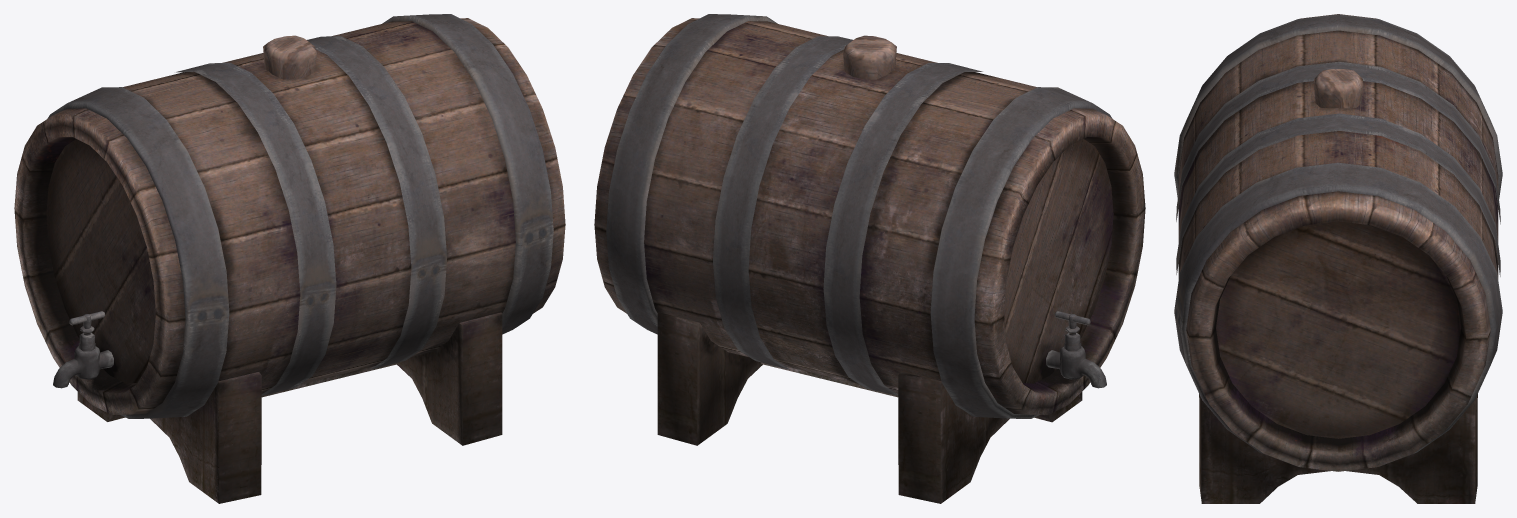
Rendered from wine_barrel.glb.
3 renders of one model, left to right at view 1: azimuth 30°, elevation 25°; view 2: azimuth 150°, elevation 25°; view 3: azimuth 270°, elevation 25°, orthographic. The views are drawn at different scales.
Parts seen in each view (by area): view 1: wine_barrel; view 2: wine_barrel; view 3: wine_barrel.
Boxes of the visible parts, bbox=[...] form: wine_barrel: bbox=[14, 14, 565, 503]; wine_barrel: bbox=[594, 14, 1145, 503]; wine_barrel: bbox=[1174, 14, 1502, 503].
Size of the model in its own units: 1 by 0.8172 by 0.6757.
1 material, 1 textured.
